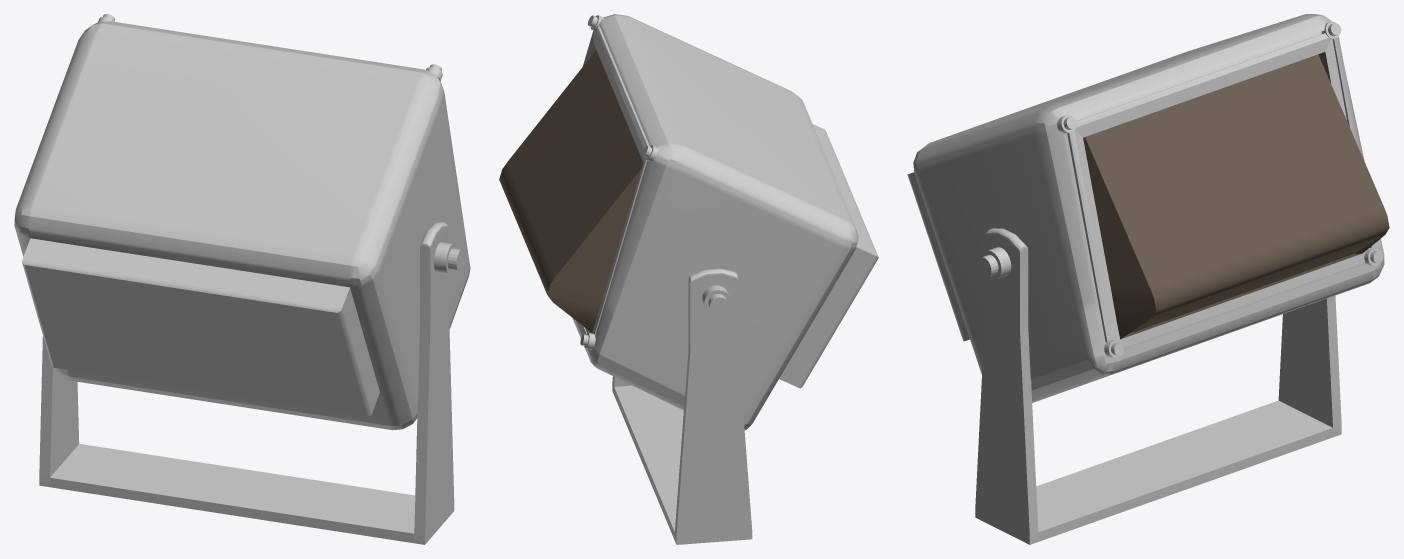
3 views of the same model, side by side, from view 1: azimuth 30°, elevation 25°; view 2: azimuth 150°, elevation 25°; view 3: azimuth 270°, elevation 25° (orthographic). The views are drawn at different scales.
Parts seen in each view (by area): view 1: Light_Building_Ground_Spot6; view 2: Light_Building_Ground_Spot6; view 3: Light_Building_Ground_Spot6.
Part boxes in pixels (x1=…): Light_Building_Ground_Spot6: x1=14, y1=14, x2=470, y2=544; Light_Building_Ground_Spot6: x1=499, y1=14, x2=878, y2=544; Light_Building_Ground_Spot6: x1=907, y1=14, x2=1389, y2=544.
Size of the model in its own units: 0.6918 by 0.6703 by 0.6837.
